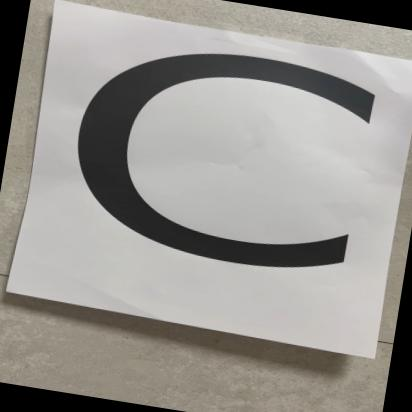seat: (18, 4, 412, 353)
